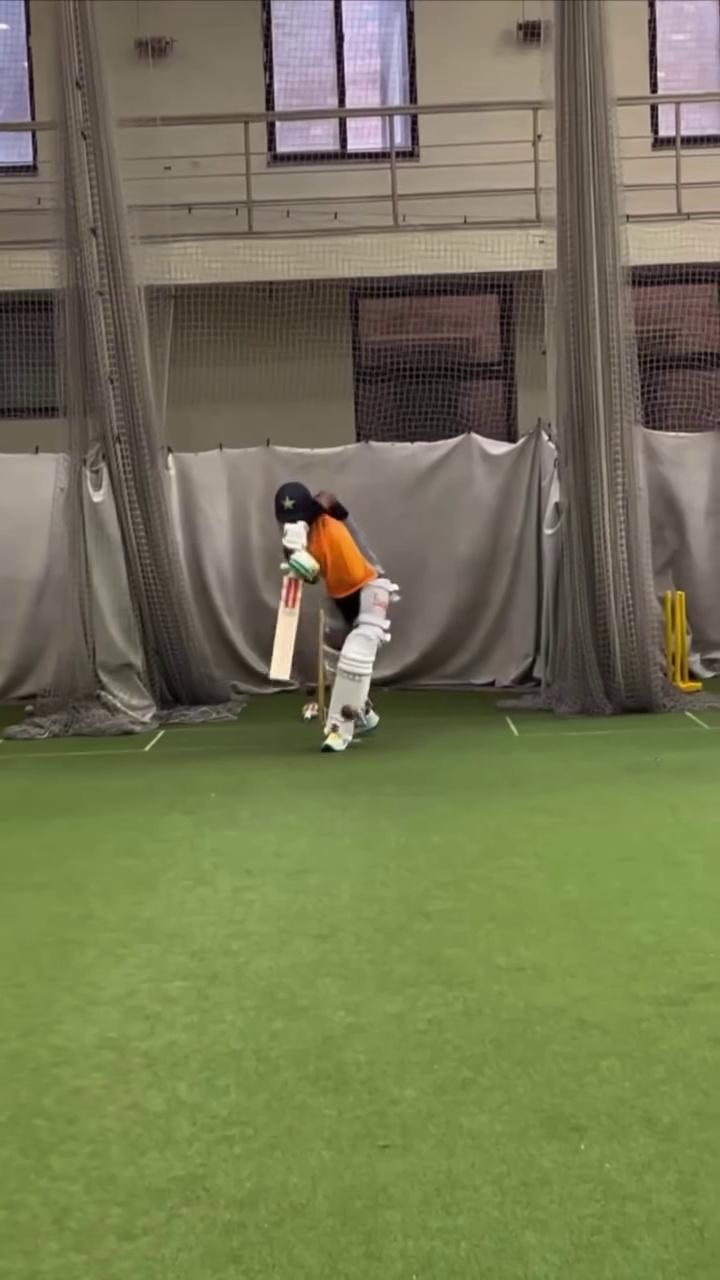bat: (269, 575, 304, 681)
